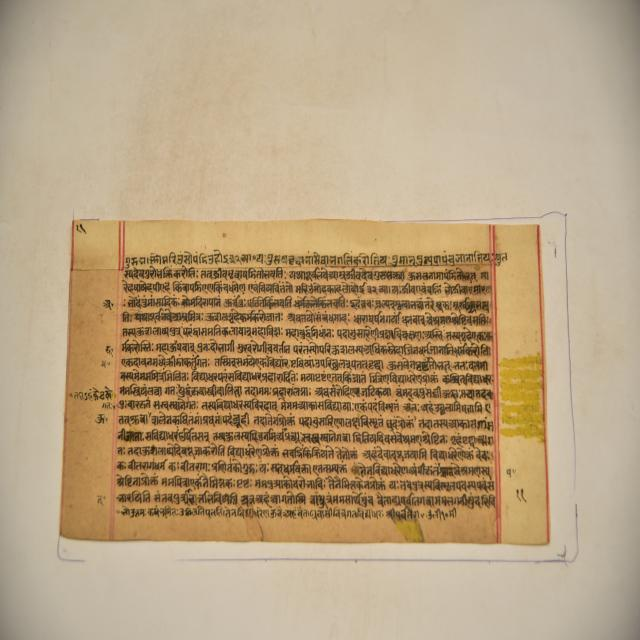text_paragraph: (60, 218, 549, 545)
